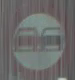No overtake: (8, 7, 69, 70)
